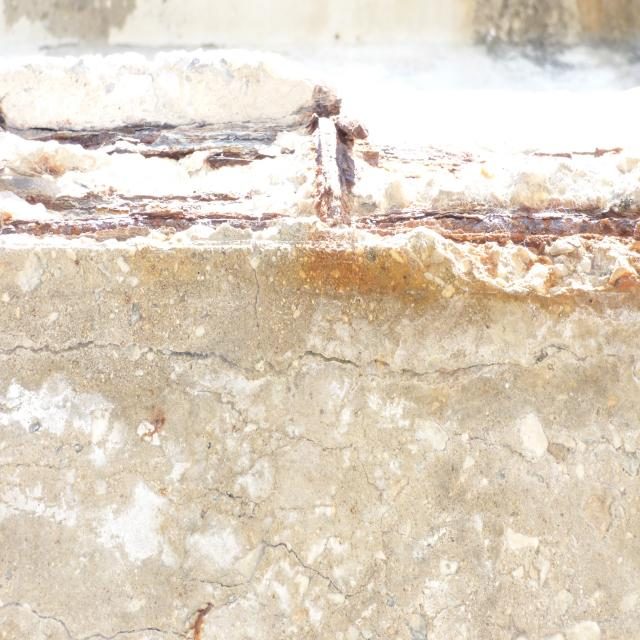corrosion: (0, 100, 640, 316), (183, 588, 220, 640), (134, 404, 168, 440)
